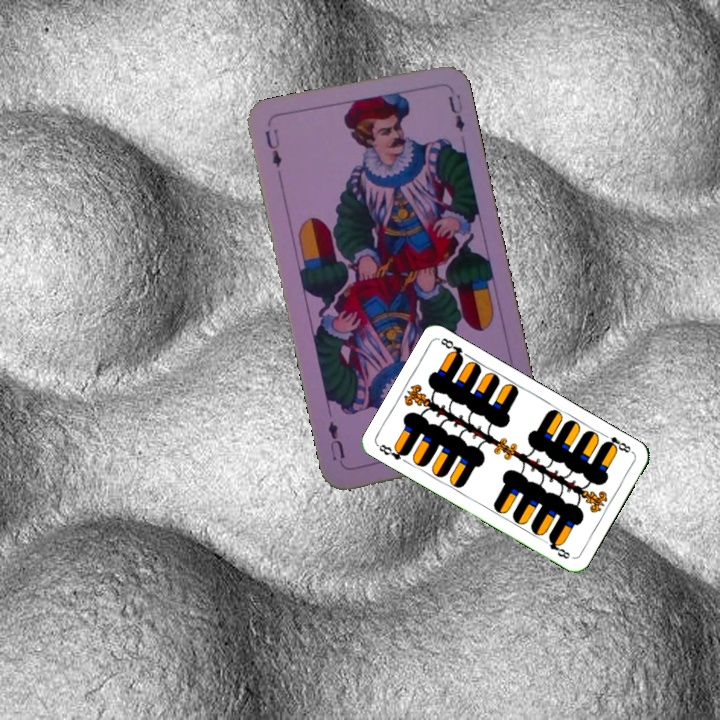E8: (599, 430, 636, 456), (374, 440, 411, 463)
EU: (261, 125, 285, 170)
